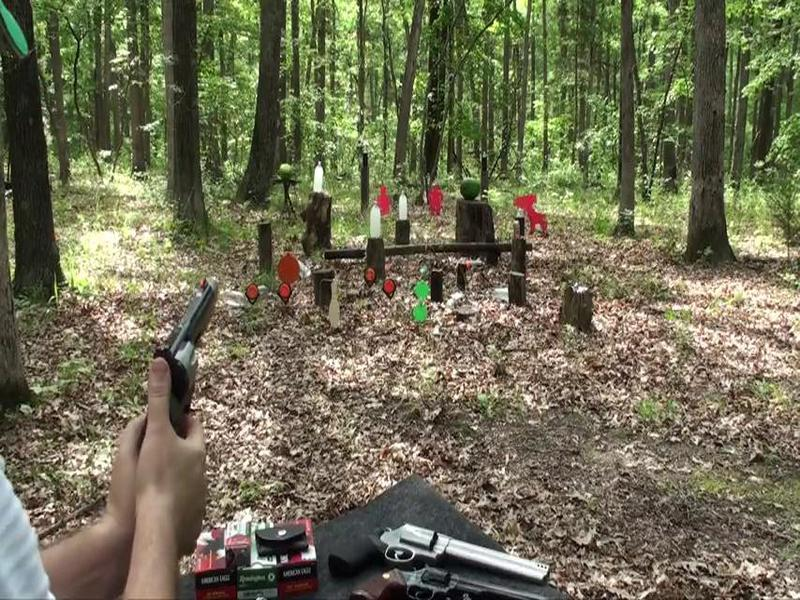Revolver: (134, 258, 231, 444)
